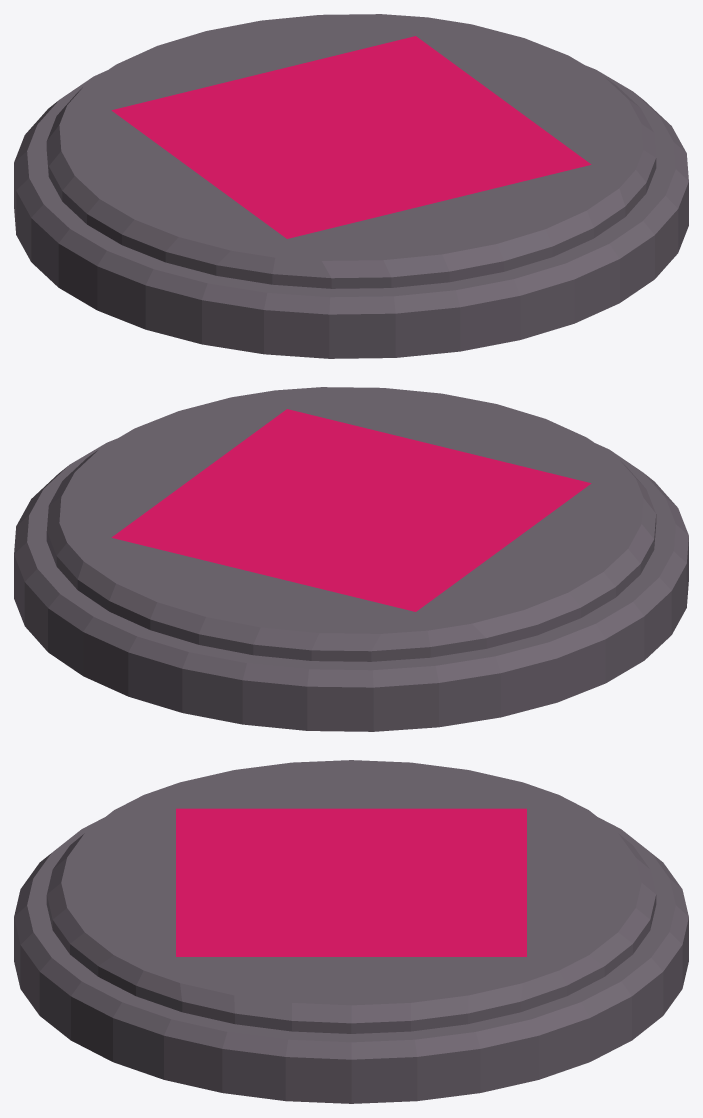
The model's file is Discofloor.fbx.
3 views of the same model, one above another, from view 1: azimuth 30°, elevation 25°; view 2: azimuth 150°, elevation 25°; view 3: azimuth 270°, elevation 25° (orthographic).
Visible parts, largest first — view 1: Circle; view 2: Circle; view 3: Circle.
Boxes of the visible parts, <box> form: Circle: <box>14,14,688,358</box>; Circle: <box>14,387,688,731</box>; Circle: <box>14,760,688,1103</box>.
Bounding box in the file's own units: 822 × 106 × 822.
